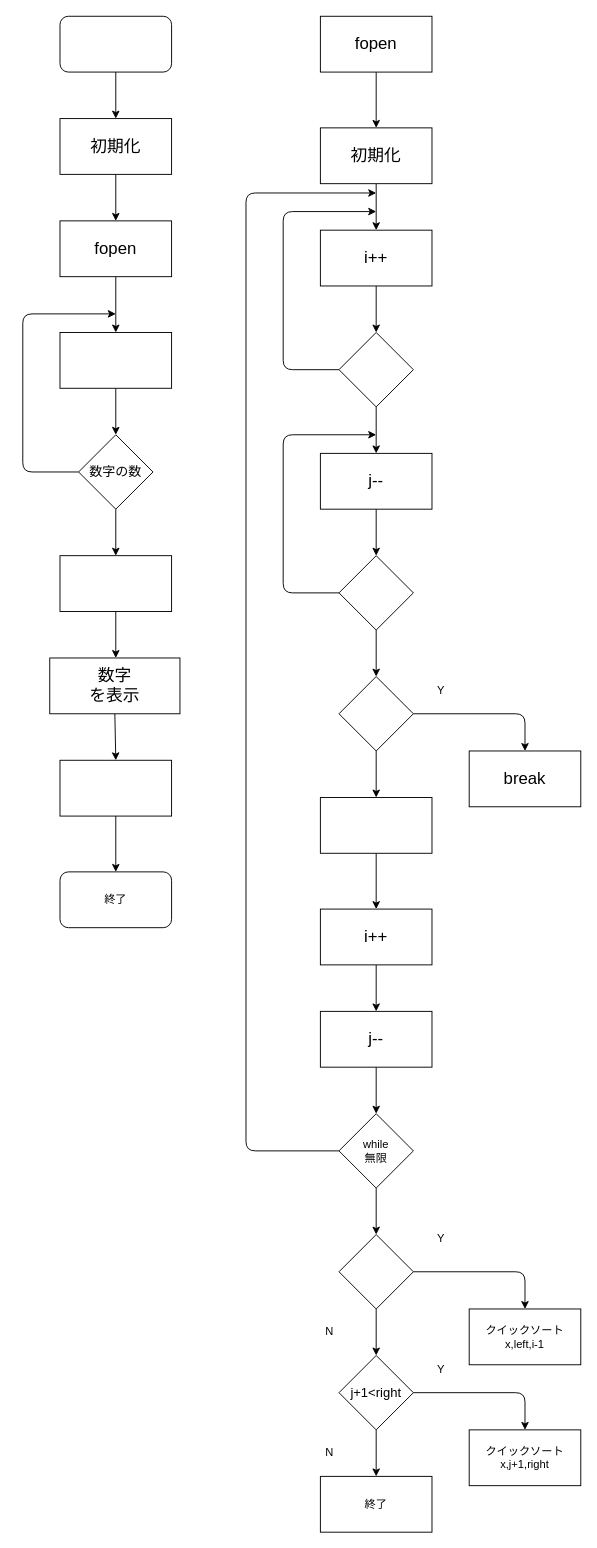
This 597x1548 diagram has some shape labels left out. The centre of each missing label's shape, as x and y in pixels:
"free" belongs at point (115, 787).
"fscanf" belongs at point (115, 360).
"i>=j" belongs at point (375, 713).
"left<i-1" belongs at point (375, 1271).
"p<x[j]" belongs at point (375, 592).
"x[i]<p" belongs at point (375, 369).
"クイックソートを実行" belongs at point (115, 583).
"数値の入れ替え" belongs at point (375, 825).
"開始" belongs at point (115, 43).
